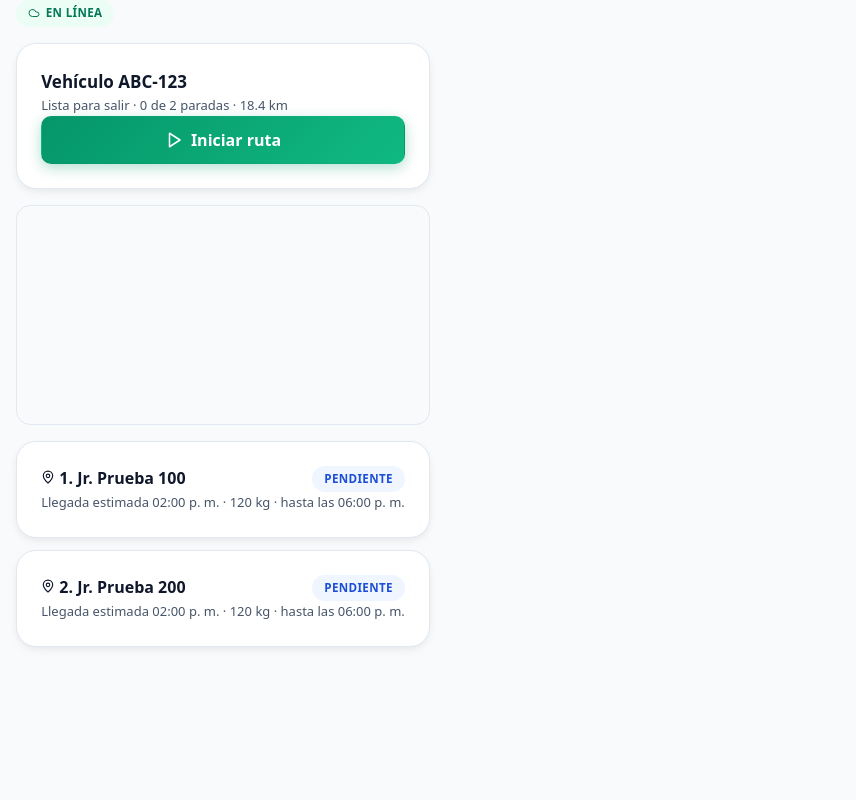
Scenario: ConductorPage (RF-004, RF-008, RNF-004, RNF-010) › una ruta planificada se inicia con un solo toque
Click the button "Iniciar ruta": click(223, 140) top-left (41, 116), bottom-right (405, 164)
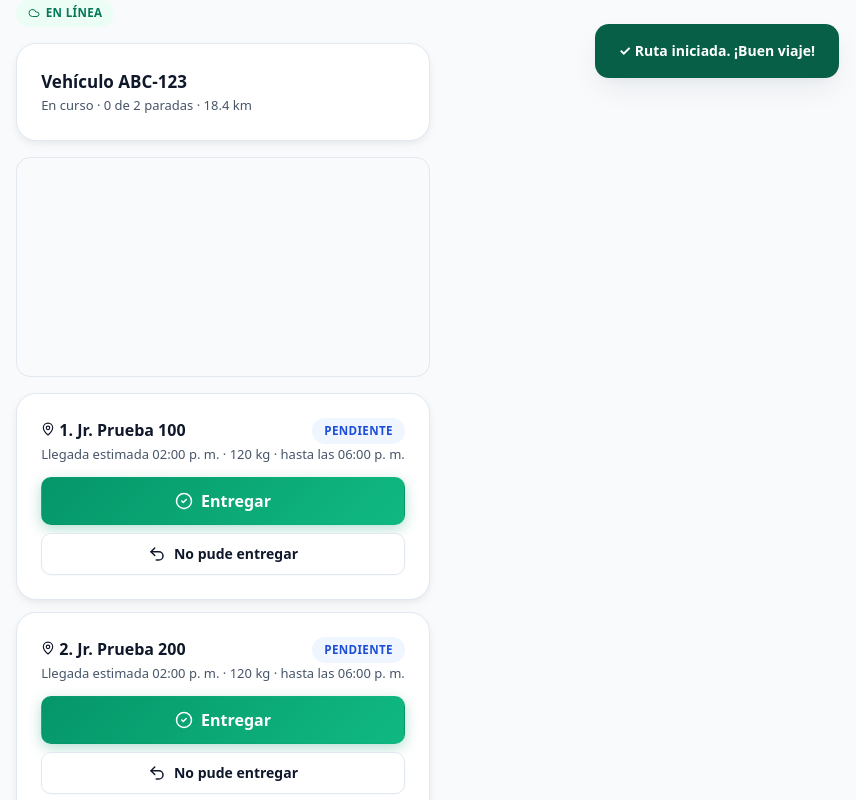
Expected: the text "✓ Ruta iniciada. ¡Buen viaje!" is shown, top-left (595, 24), bottom-right (839, 78)
Expected: the button with aria-label "Entregar parada 1" is shown, top-left (41, 477), bottom-right (405, 525)
